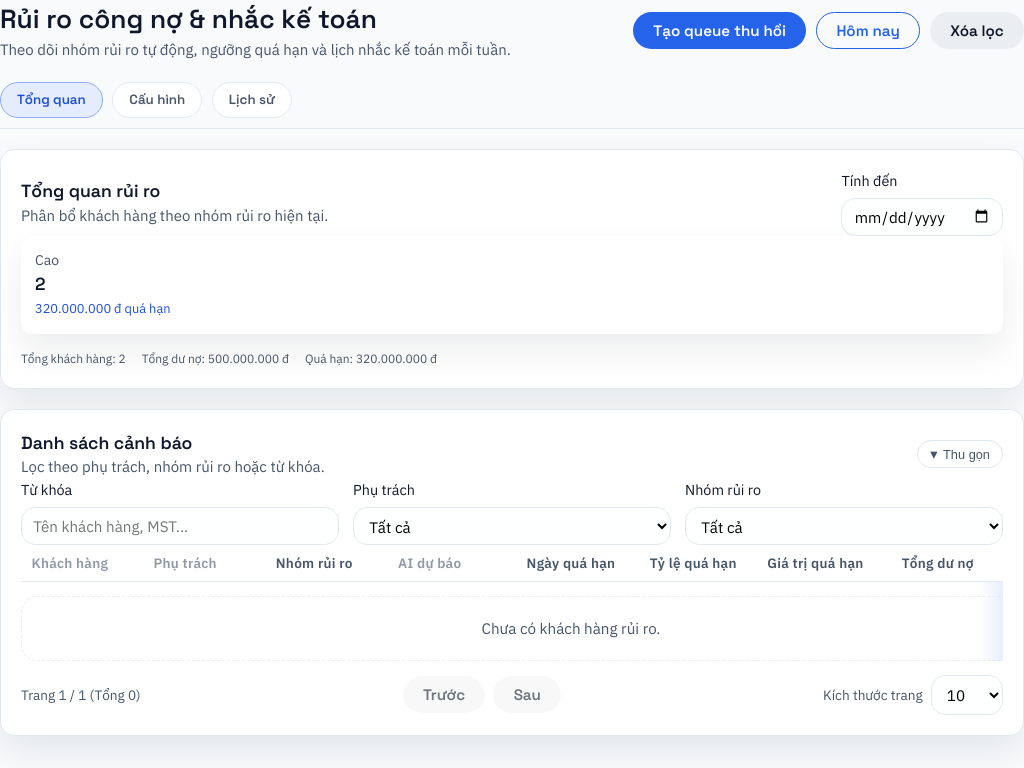
Scenario: RiskAlertsPage tabs › switches between Tổng quan / Cấu hình / Lịch sử tabs
This screenshot has width=1024, height=768.
Expected: the heading "Tổng quan rủi ro" is shown, left=21, top=180, right=160, bottom=202
Expected: the heading "Danh sách cảnh báo" is shown, left=21, top=432, right=192, bottom=454
Step 1. Click the tab "Cấu hình" → point(157, 100), box left=112, top=82, right=202, bottom=118
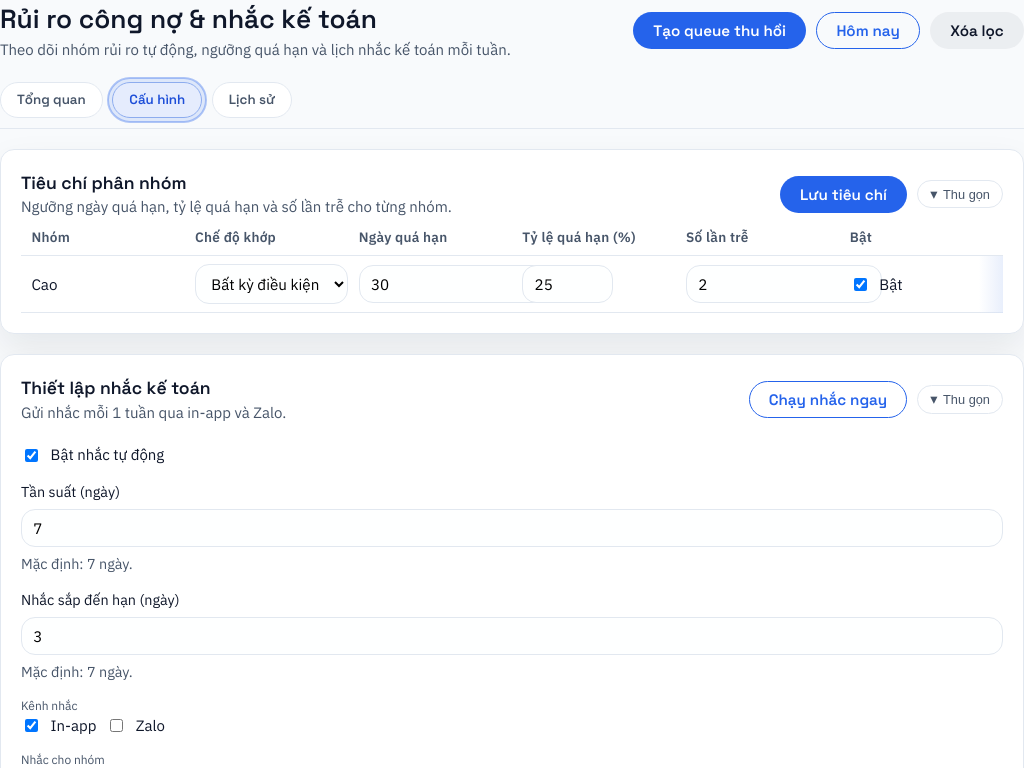
Expected: the heading "Tiêu chí phân nhóm" is shown, left=21, top=172, right=186, bottom=194
Expected: the heading "Thiết lập nhắc kế toán" is shown, left=21, top=377, right=211, bottom=399
Expected: the heading "Tổng quan rủi ro" is gone
Step 2. Click the tab "Lịch sử" → point(252, 100), box left=212, top=82, right=292, bottom=118
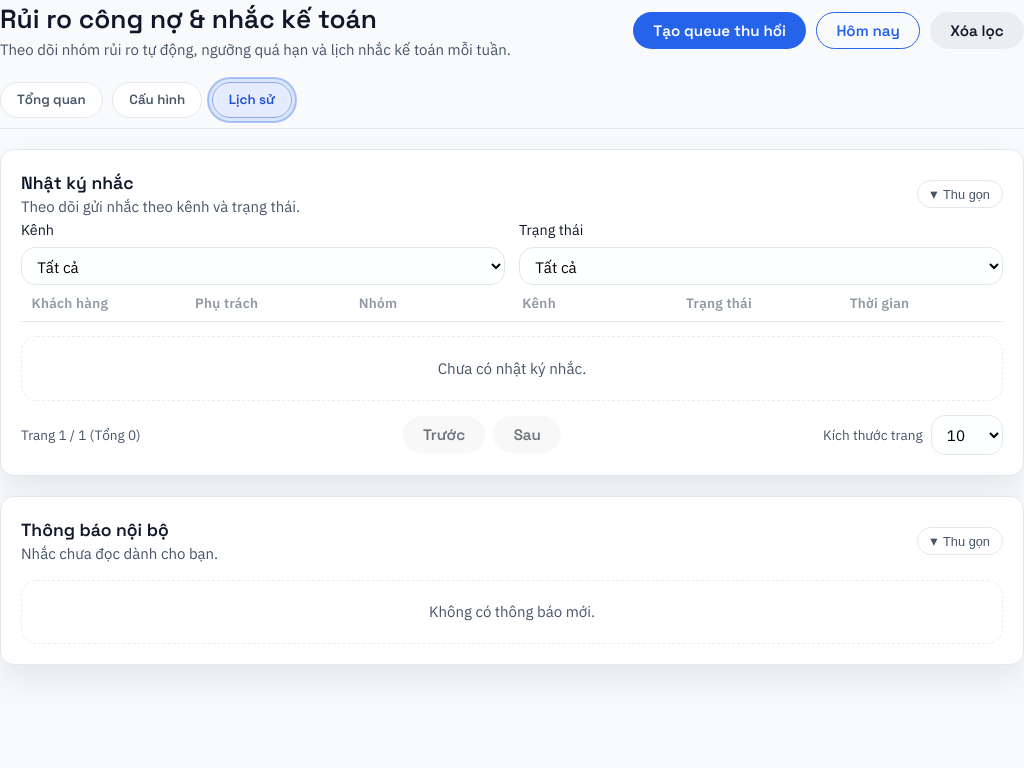
Expected: the heading "Nhật ký nhắc" is shown, left=21, top=172, right=134, bottom=194
Expected: the heading "Thông báo nội bộ" is shown, left=21, top=519, right=169, bottom=541
Expected: the heading "Tiêu chí phân nhóm" is gone
